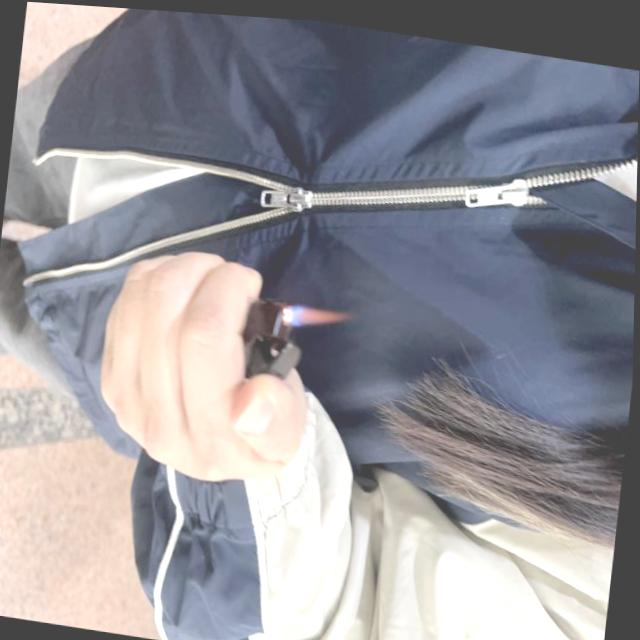helmet: (290, 295, 351, 326)
